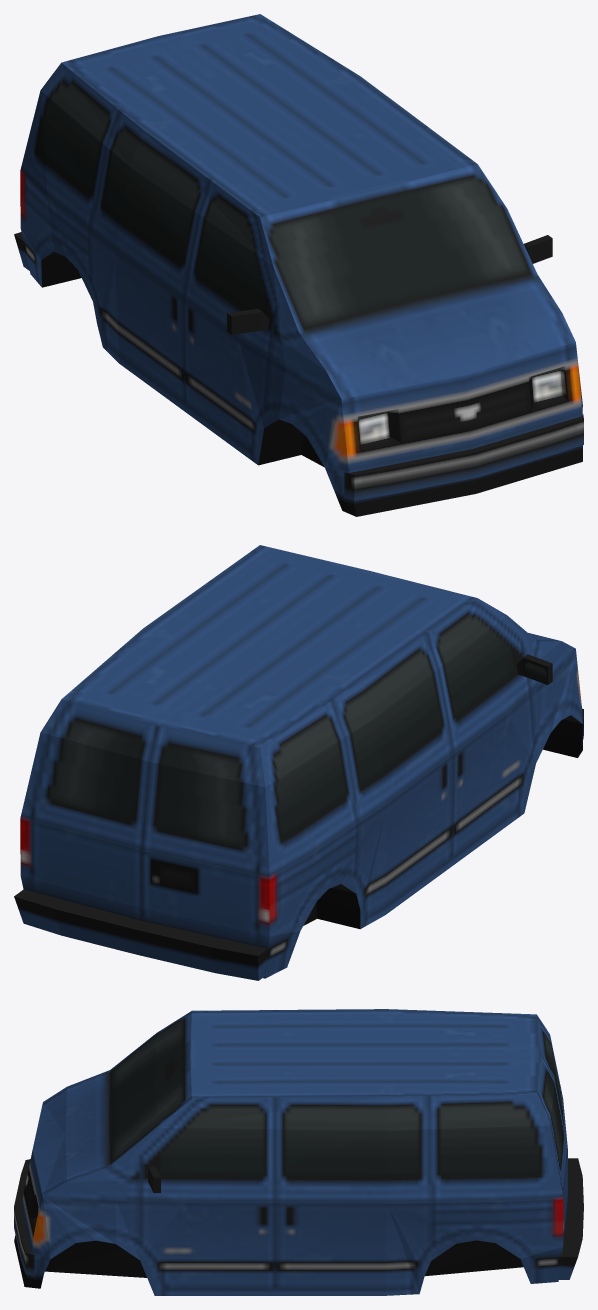
The model's file is Car4.obj.
3 renders of one model, top to bottom at view 1: azimuth 30°, elevation 25°; view 2: azimuth 150°, elevation 25°; view 3: azimuth 270°, elevation 25°, orthographic. The views are drawn at different scales.
Visible parts, largest first — view 1: Car4; view 2: Car4; view 3: Car4.
Boxes of the visible parts, x1,y1,x2,y2 form: Car4: (14,14,583,516); Car4: (14,545,583,980); Car4: (14,1009,583,1295).
Size of the model in its own units: 3.4 by 2.3 by 6.3.
1 material, 1 textured.
